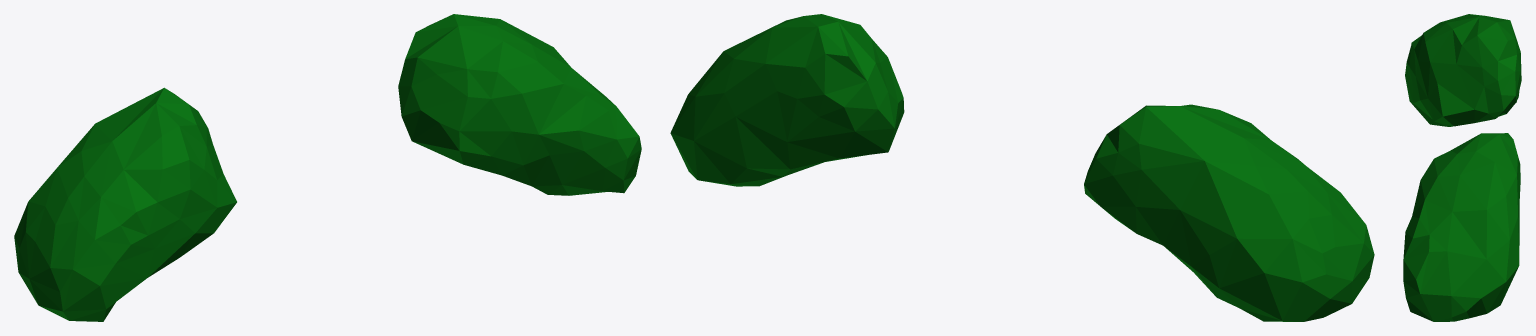
File: 57-8.32-area 8.32 of cortex-('0.0000', '0.4980', '0.0549').obj
3 renders of one model, left to right at view 1: azimuth 30°, elevation 25°; view 2: azimuth 150°, elevation 25°; view 3: azimuth 270°, elevation 25°, orthographic. The views are drawn at different scales.
Bounding box in the file's own units: 80.86 × 23.32 × 17.38.
